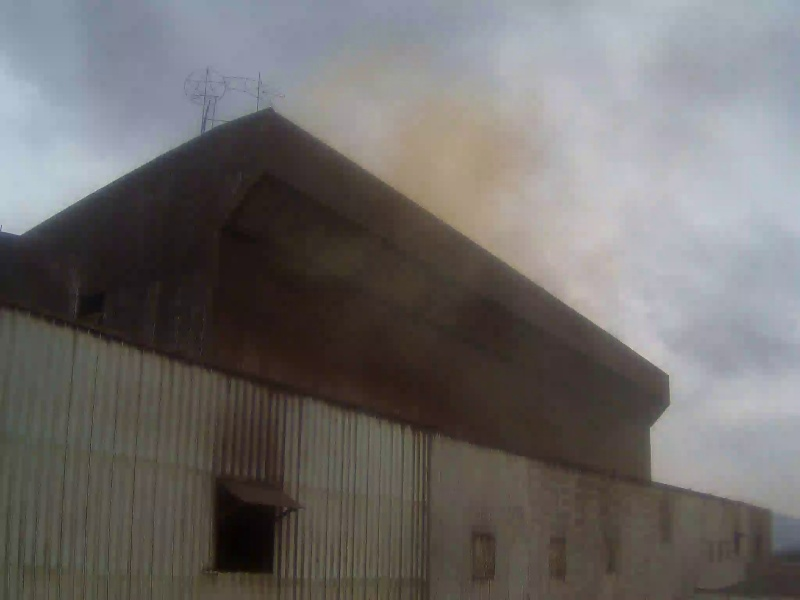bom: (4, 9, 269, 178)
ruim: (288, 15, 648, 380)
